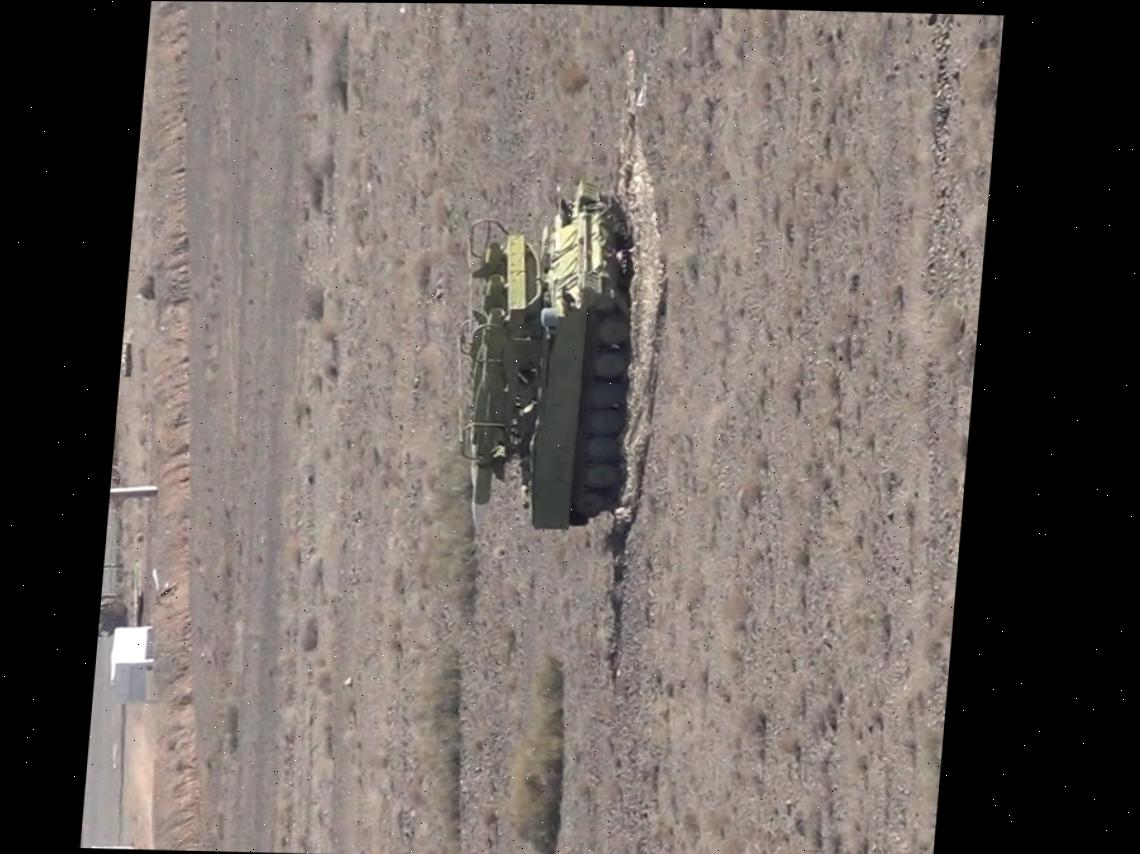armored_car: (442, 175, 651, 538)
